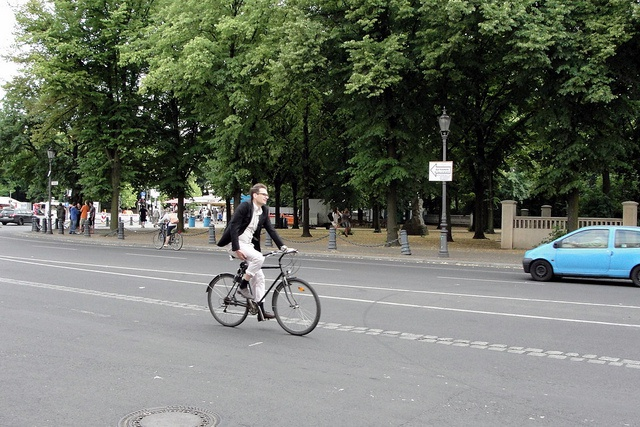non-vehicle: (206, 244, 323, 336), (153, 221, 182, 251)
